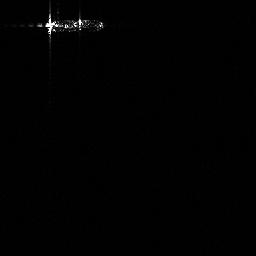ship: (34, 11, 107, 41)
